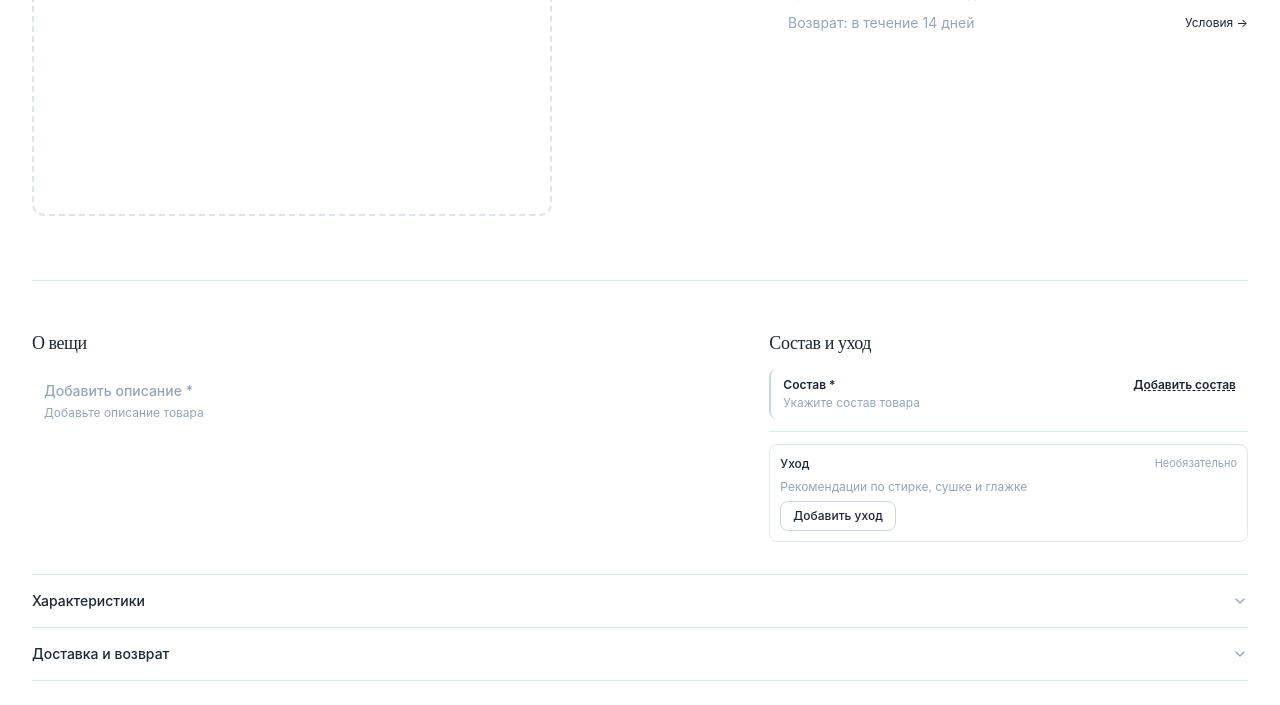
Test: PS.R4A.5B1 — Required Product Content + Canonical Characteristics UX › 1. Description is REQUIRED › typing description in Visual in-place editor updates draft and clears required helper
The image size is (1280, 705).
(page scrolled)
Click the element with test id "description-container": {"x": 124, "y": 401} left=44, top=382, right=204, bottom=420
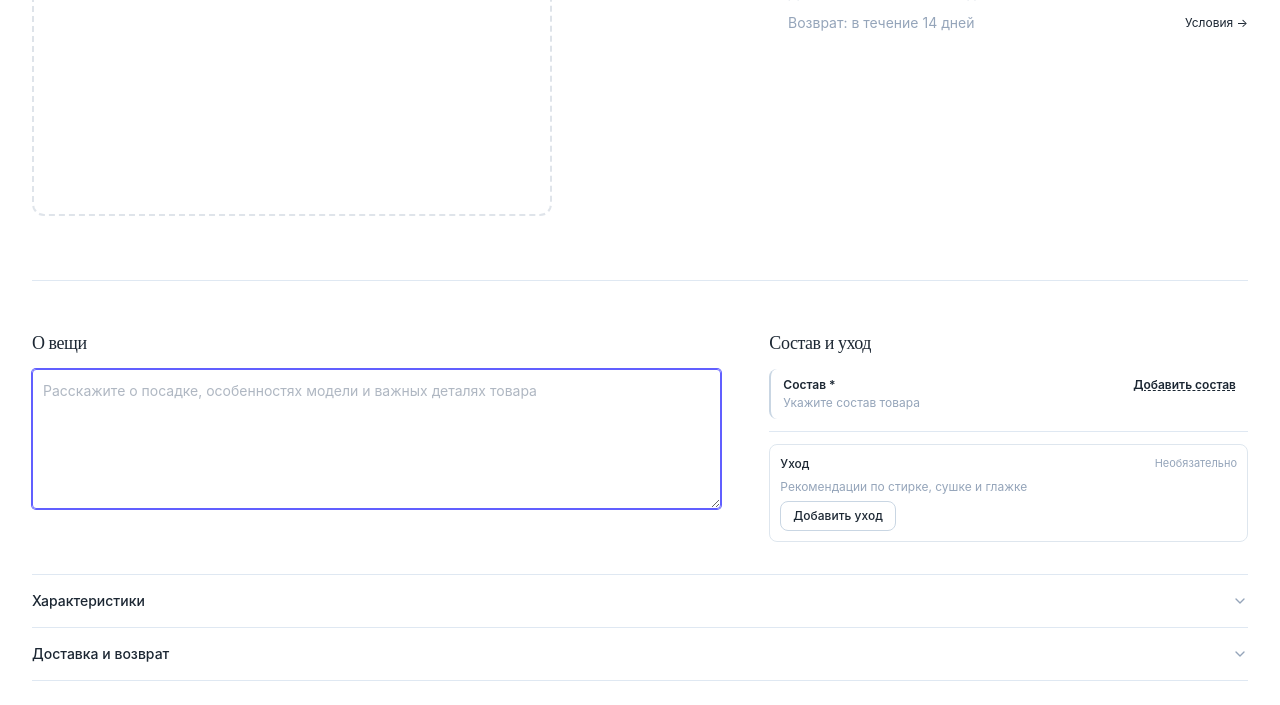
Replace the text in the text box with test id "visual-inline-textarea" with "Новое красивое описание": {"x": 377, "y": 439} left=32, top=369, right=721, bottom=509
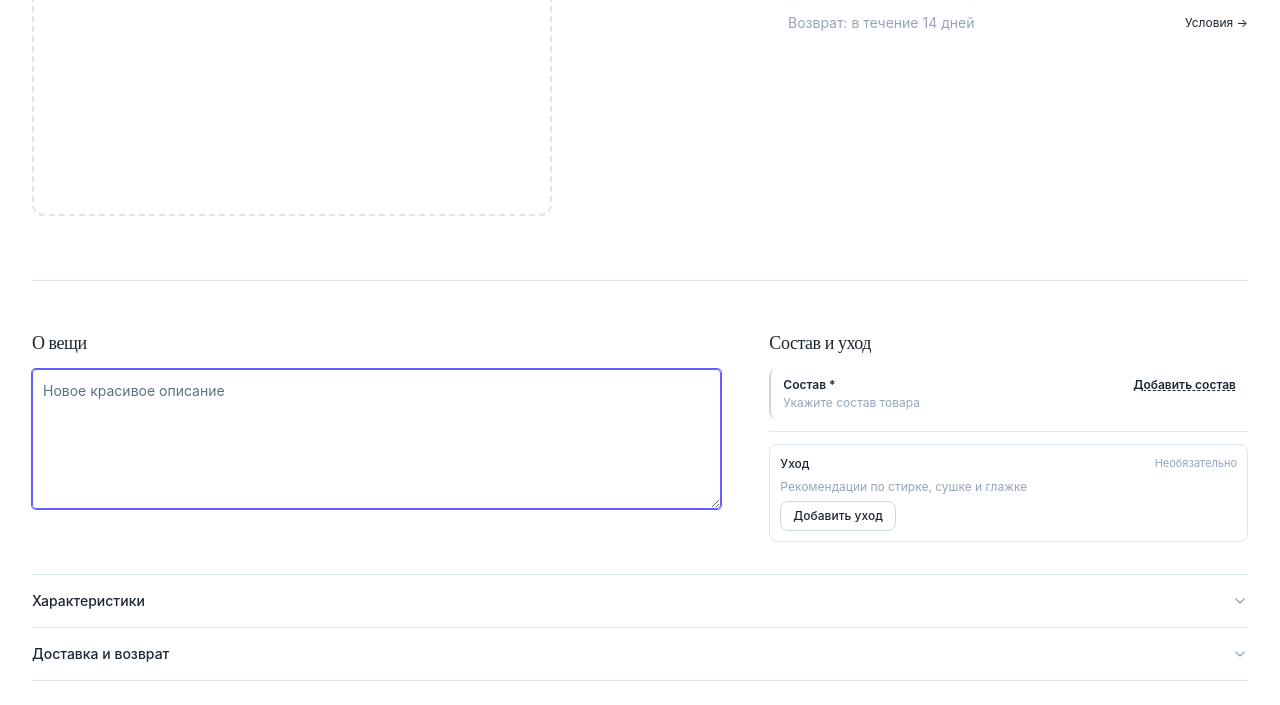
Leave the text box with test id "visual-inline-textarea", box left=32, top=369, right=721, bottom=509
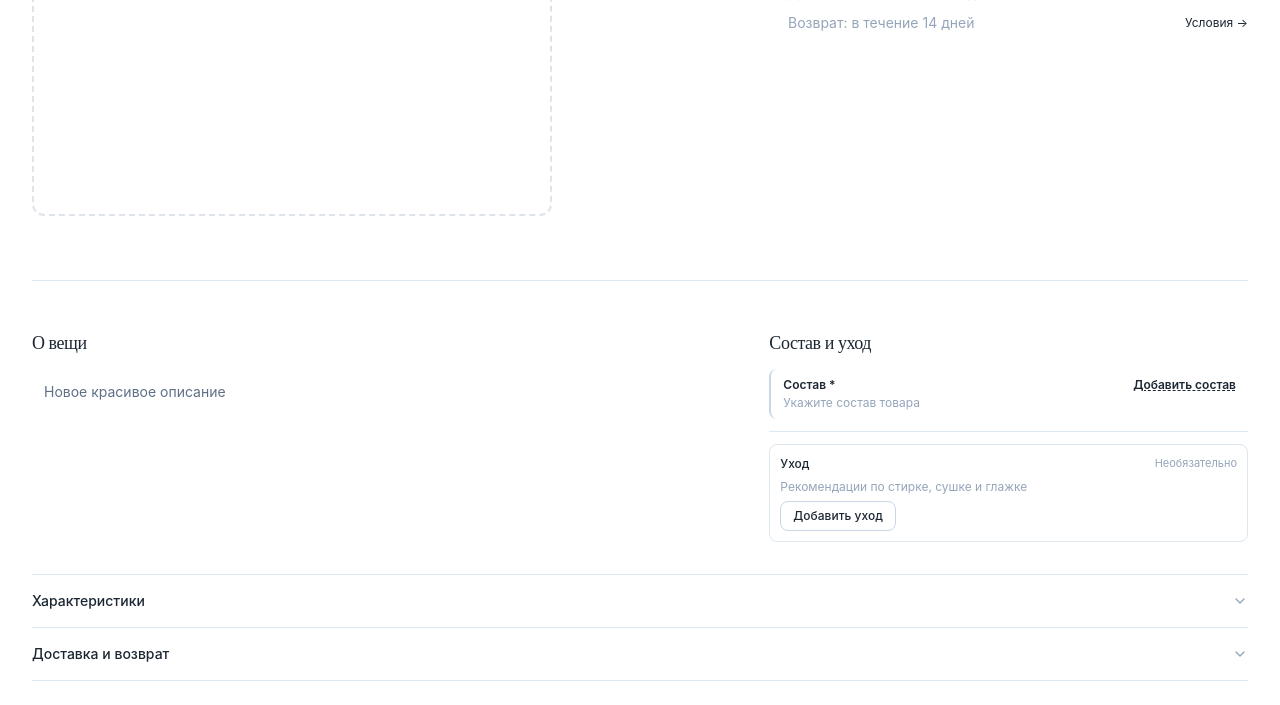
Expected: the text "Новое красивое описание" is shown, left=44, top=383, right=226, bottom=400
